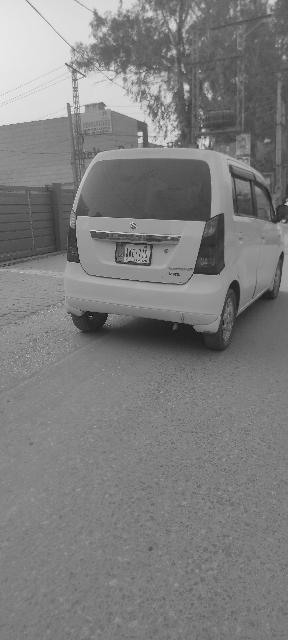Number: (125, 247, 148, 259)
